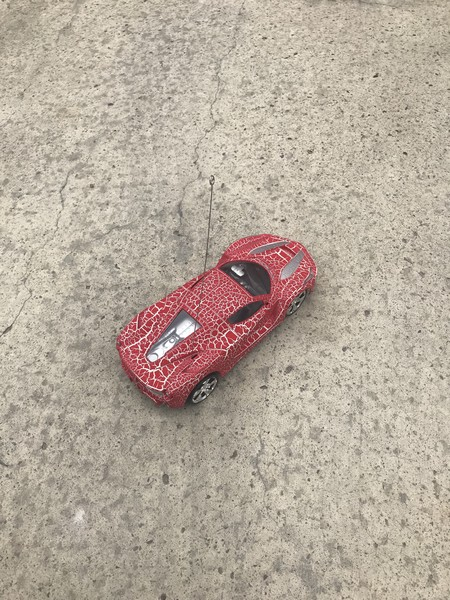RC: (114, 234, 320, 412)
